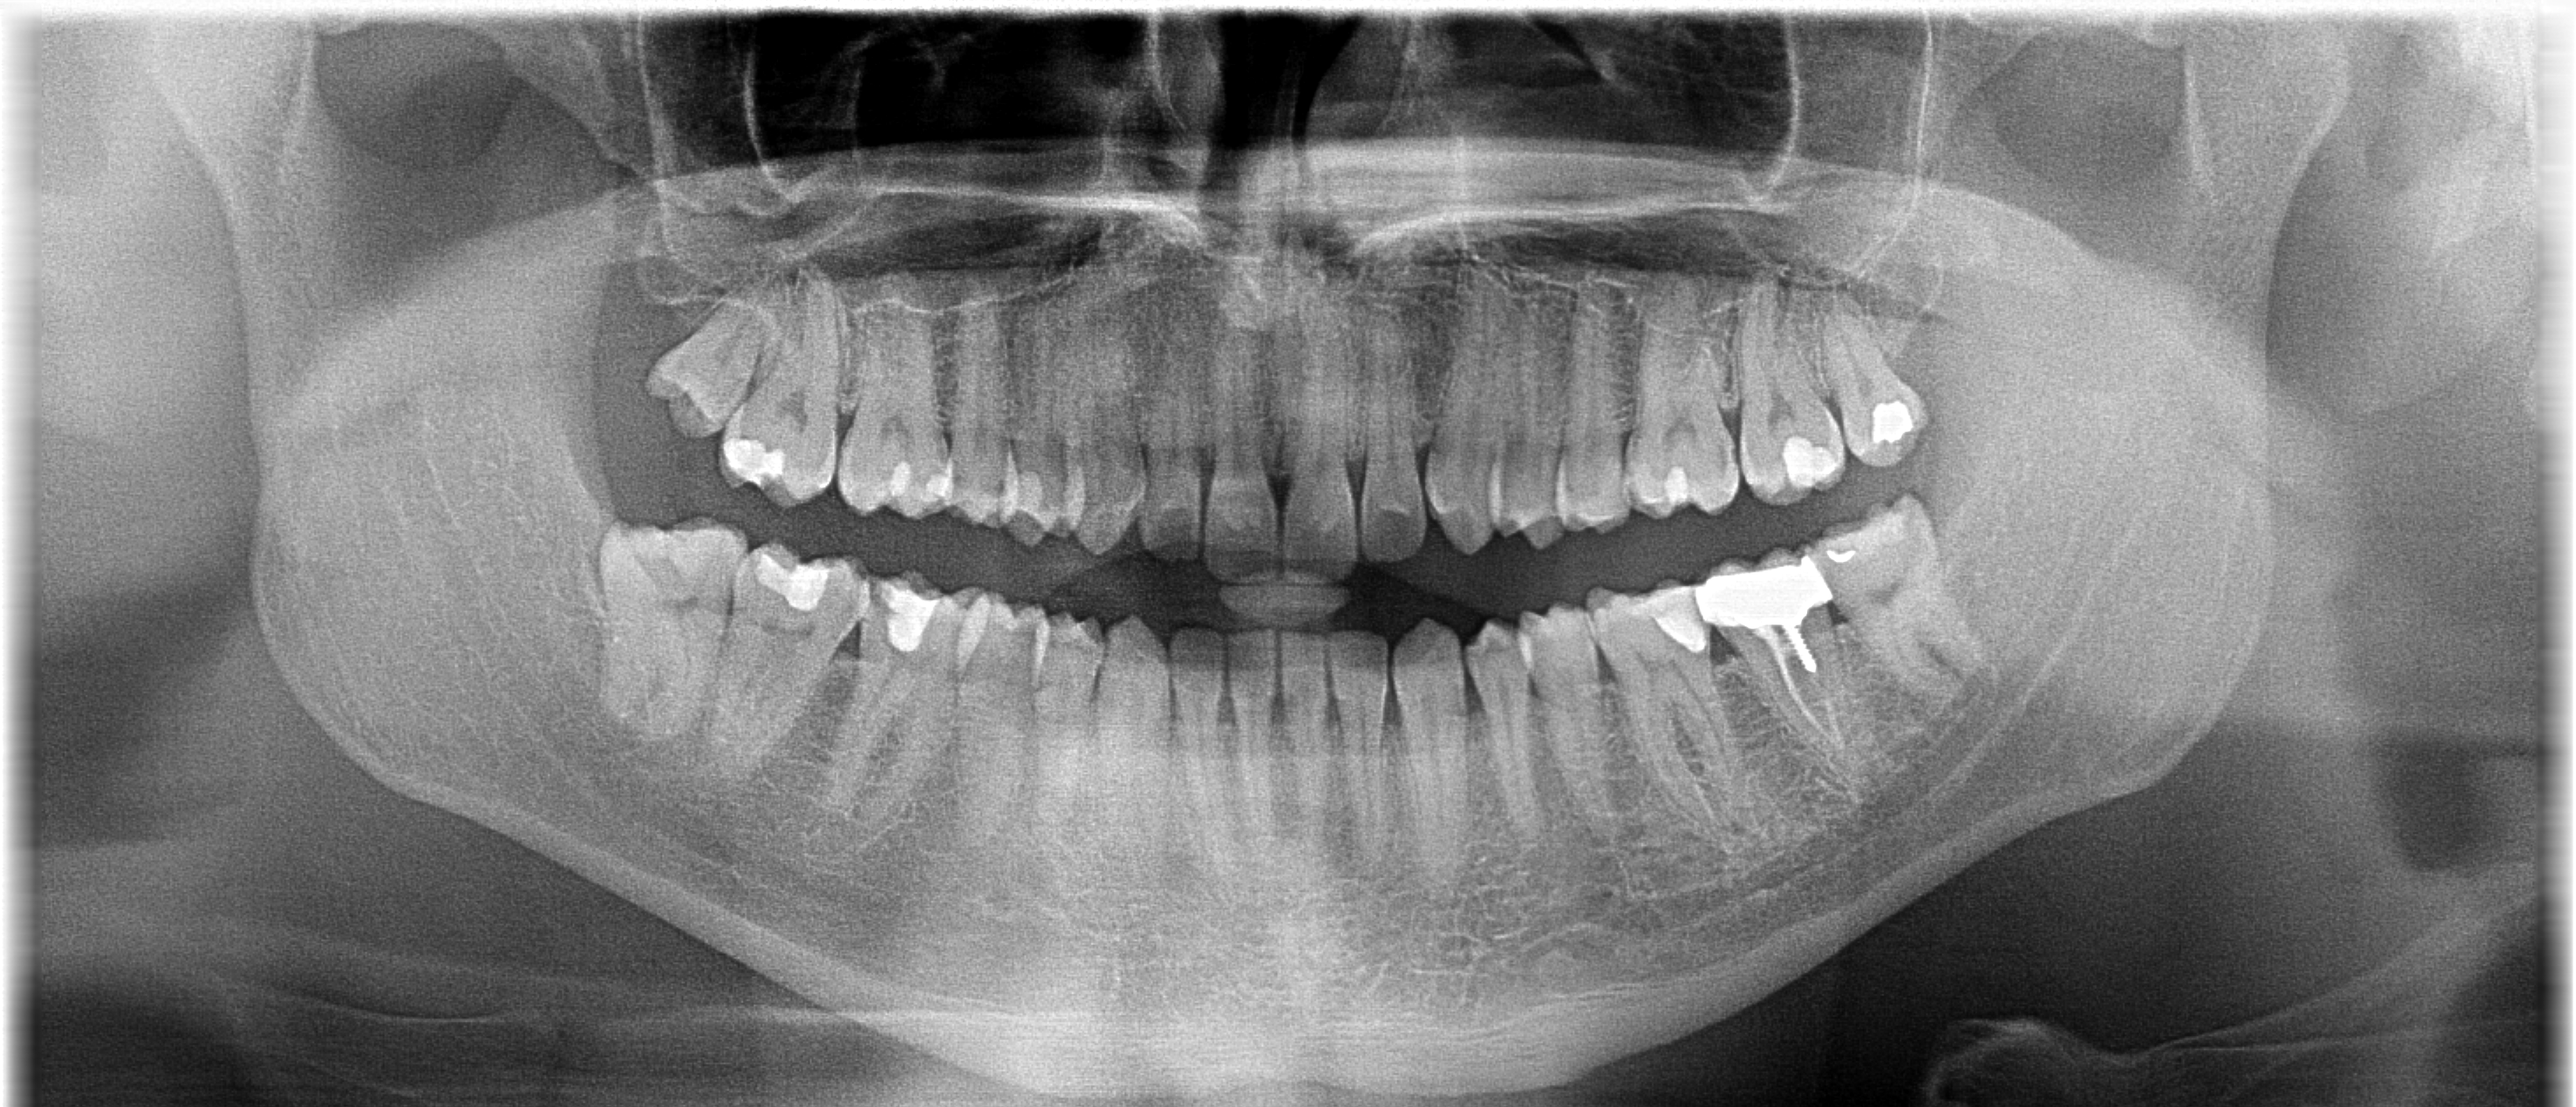cordal: (1804, 486, 2034, 718), (568, 499, 761, 752), (1810, 273, 1975, 480), (634, 260, 789, 450)
tratamiento_conducto: (1681, 527, 1855, 762)
